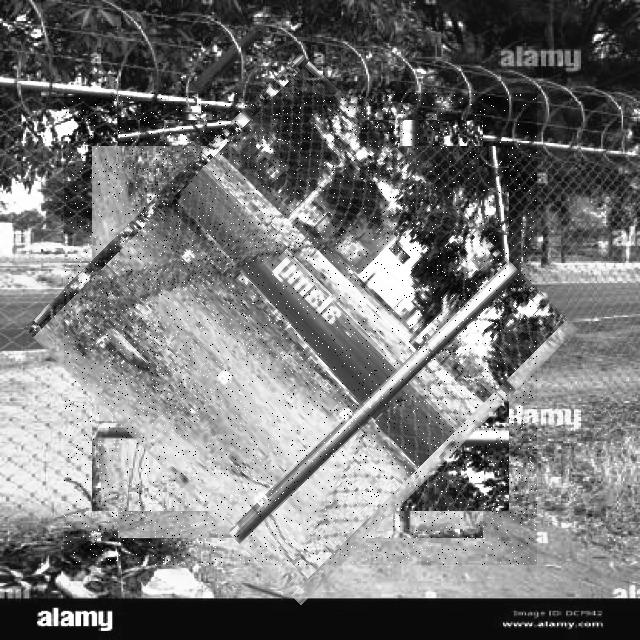anomaly-fence: (64, 93, 537, 565)
